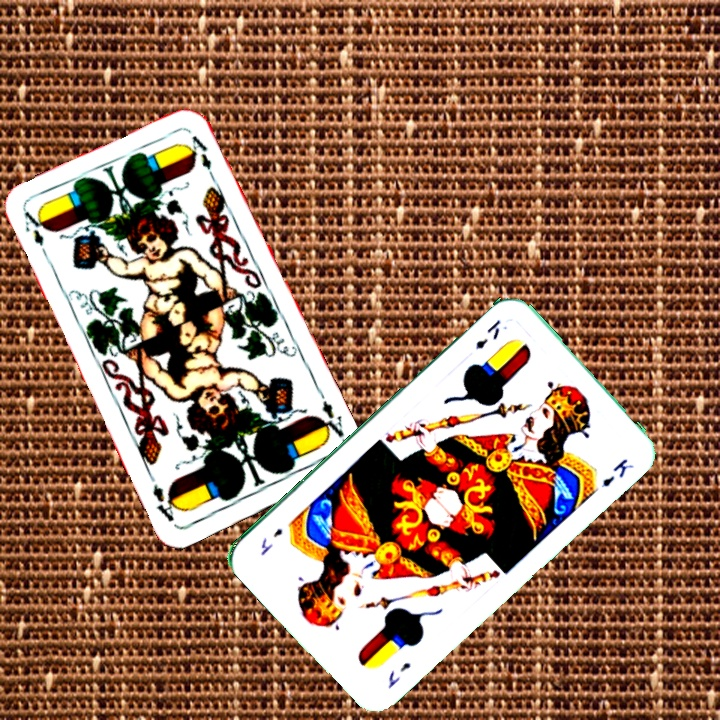EA: (314, 387, 347, 443), (20, 207, 52, 263)
EK: (471, 316, 503, 352), (383, 658, 414, 691)
